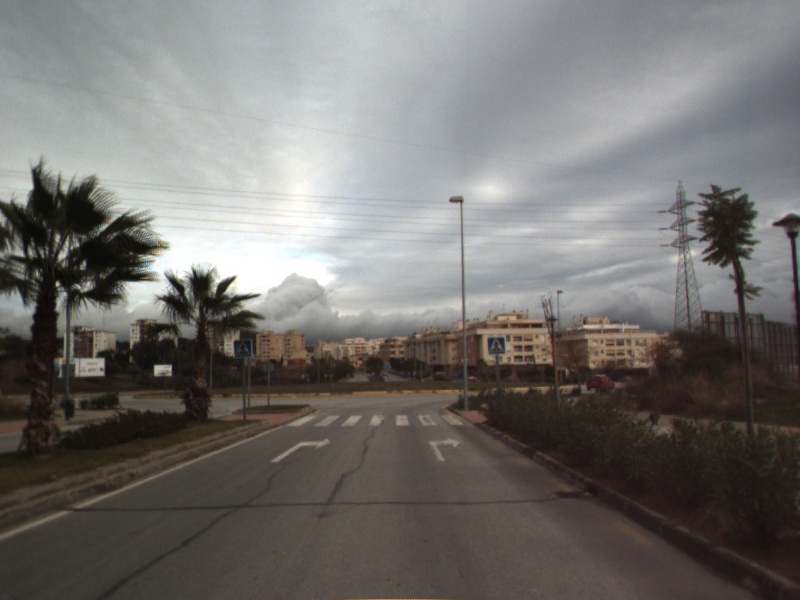RIGHT: (269, 436, 332, 464), (426, 435, 462, 463)
